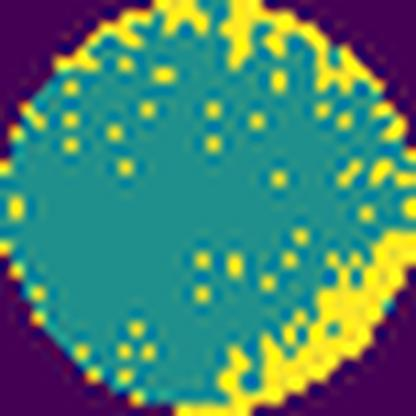Edge-Loc: (174, 229, 414, 416), (39, 0, 399, 88)
